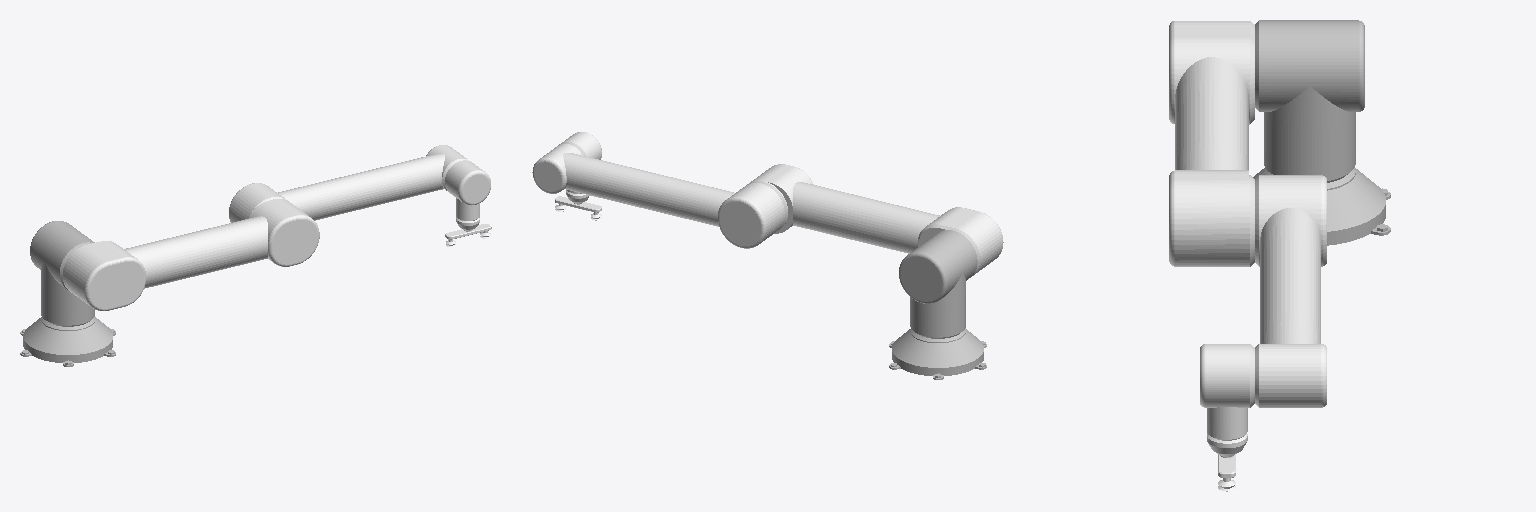
robot.urdf — chocolate_robot:
<?xml version='1.0' encoding='utf-8'?>
<robot name="chocolate_robot">
  <material name="Aluminum">
    <color rgba="0.961 0.961 0.965 1.0" />
  </material>
  <material name="Stainless_Steel_Brushed">
    <color rgba="0.796 0.796 0.796 1.0" />
  </material>
  <link name="base_link">
    <inertial>
      <origin xyz="-0.000000 -0.000000 0.009875" rpy="0 0 0" />
      <mass value="17.043868" />
      <inertia ixx="0.07965975" ixy="0.0" ixz="3.454097e-10" iyy="0.07965975" iyz="3.4608135e-10" izz="0.1374268" />
    </inertial>
    <visual>
      <origin xyz="0.000000 0.000000 0.000000" rpy="0.000000 0.000000 0.000000" />
      <geometry>
        <mesh filename="package://chocolate_robot_description/meshes/chocolate_robot/base_link.dae" scale="1 1 1" />
      </geometry>
      <material name="Stainless_Steel_Brushed" />
    </visual>
    <collision>
      <origin xyz="0.000000 0.000000 0.000000" rpy="0.000000 0.000000 0.000000" />
      <geometry>
        <mesh filename="package://chocolate_robot_description/meshes/chocolate_robot/base_link_collision.stl" scale="0.01 0.01 0.01" />
      </geometry>
    </collision>
  </link>
  <link name="link_1">
    <inertial>
      <origin xyz="-0.000000 0.000000 -0.150226" rpy="0 0 0" />
      <mass value="29.5941955" />
      <inertia ixx="0.26254975" ixy="5.775235e-07" ixz="1.779303e-07" iyy="0.2370806" iyz="1.177959e-07" izz="0.1339742" />
    </inertial>
    <visual>
      <origin xyz="0.000000 -0.000000 0.067260" rpy="3.141593 0.000000 0.000000" />
      <geometry>
        <mesh filename="package://chocolate_robot_description/meshes/chocolate_robot/link_1.dae" scale="1 1 1" />
      </geometry>
      <material name="Stainless_Steel_Brushed" />
    </visual>
    <collision>
      <origin xyz="0.000000 -0.000000 0.067260" rpy="3.141593 0.000000 0.000000" />
      <geometry>
        <mesh filename="package://chocolate_robot_description/meshes/chocolate_robot/link_1_collision.stl" scale="0.01 0.01 0.01" />
      </geometry>
    </collision>
  </link>
  <link name="link_2">
    <inertial>
      <origin xyz="0.252212 -0.211631 -0.079085" rpy="0 0 0" />
      <mass value="20.446867" />
      <inertia ixx="0.620589" ixy="0.6610605" ixz="0.00064043" iyy="0.853715" iyz="-0.0005378935" izz="1.4074205" />
    </inertial>
    <visual>
      <origin xyz="0.000000 0.184215 0.153998" rpy="0.698132 0.000000 0.000000" />
      <geometry>
        <mesh filename="package://chocolate_robot_description/meshes/chocolate_robot/link_2.dae" scale="1 1 1" />
      </geometry>
      <material name="Aluminum" />
    </visual>
    <collision>
      <origin xyz="0.000000 0.184215 0.153998" rpy="0.698132 0.000000 0.000000" />
      <geometry>
        <mesh filename="package://chocolate_robot_description/meshes/chocolate_robot/link_2_collision.stl" scale="0.01 0.01 0.01" />
      </geometry>
    </collision>
  </link>
  <link name="link_3">
    <inertial>
      <origin xyz="0.223812 0.187791 -0.066436" rpy="0 0 0" />
      <mass value="13.116837" />
      <inertia ixx="0.36475095" ixy="-0.4006213" ixz="-0.00024209295" iyy="0.50605" iyz="-0.0001910737" izz="0.8424325" />
    </inertial>
    <visual>
      <origin xyz="-0.515241 -1.835000 -0.035287" rpy="-0.872665 0.000000 0.000000" />
      <geometry>
        <mesh filename="package://chocolate_robot_description/meshes/chocolate_robot/link_3.dae" scale="1 1 1" />
      </geometry>
      <material name="Aluminum" />
    </visual>
    <collision>
      <origin xyz="-0.515241 -1.835000 -0.035287" rpy="-0.872665 0.000000 0.000000" />
      <geometry>
        <mesh filename="package://chocolate_robot_description/meshes/chocolate_robot/link_3_collision.stl" scale="0.01 0.01 0.01" />
      </geometry>
    </collision>
  </link>
  <link name="link_4">
    <inertial>
      <origin xyz="0.000000 0.016912 -0.050573" rpy="0 0 0" />
      <mass value="1.813726" />
      <inertia ixx="0.0047774425" ixy="-5.325455e-09" ixz="1.316545e-09" iyy="0.0026916525" iyz="-4.9222055e-07" izz="0.0048298815" />
    </inertial>
    <visual>
      <origin xyz="-1.030483 1.292661 0.608001" rpy="1.570796 0.000000 0.000000" />
      <geometry>
        <mesh filename="package://chocolate_robot_description/meshes/chocolate_robot/link_4.dae" scale="1 1 1" />
      </geometry>
      <material name="Aluminum" />
    </visual>
    <collision>
      <origin xyz="-1.030483 1.292661 0.608001" rpy="1.570796 0.000000 0.000000" />
      <geometry>
        <mesh filename="package://chocolate_robot_description/meshes/chocolate_robot/link_4_collision.stl" scale="0.01 0.01 0.01" />
      </geometry>
    </collision>
  </link>
  <link name="link_5_suctioncup">
    <inertial>
      <origin xyz="-0.000082 0.000211 0.030292" rpy="0 0 0" />
      <mass value="0.280359" />
      <inertia ixx="0.0001828445" ixy="9.06885e-09" ixz="7.16737e-07" iyy="0.0004074582" iyz="-1.4604825e-06" izz="0.0003454383" />
    </inertial>
    <visual>
      <origin xyz="-1.030483 -0.658558 1.176504" rpy="3.141593 0.000000 0.000000" />
      <geometry>
        <mesh filename="package://chocolate_robot_description/meshes/chocolate_robot/link_5_suctioncup.dae" scale="1 1 1" />
      </geometry>
      <material name="Aluminum" />
    </visual>
    <collision>
      <origin xyz="-1.030483 -0.658558 1.176504" rpy="3.141593 0.000000 0.000000" />
      <geometry>
        <mesh filename="package://chocolate_robot_description/meshes/chocolate_robot/link_5_suctioncup_collision.stl" scale="0.01 0.01 0.01" />
      </geometry>
    </collision>
  </link>
  <joint name="joint_1" type="revolute">
    <parent link="base_link" />
    <child link="link_1" />
    <origin xyz="-0.000000 -0.000000 0.067260" rpy="-3.141593 0.000000 0.000000" />
    <axis xyz="0.000000 0.000000 1.000000" />
    <limit effort="100" velocity="100" lower="-3.141593" upper="3.141593"/>
  </joint>
  <joint name="joint_2" type="revolute">
    <parent link="link_1" />
    <child link="link_2" />
    <origin xyz="0.000000 0.101002 -0.204715" rpy="1.570796 -0.698132 0.000000" />
    <axis xyz="0.000000 0.000000 -1.000000" />
    <limit effort="100" velocity="100" lower="-3.141593" upper="3.141593"/>
  </joint>
  <joint name="joint_3" type="revolute">
    <parent link="link_2" />
    <child link="link_3" />
    <origin xyz="0.515241 -0.432339 -0.000308" rpy="-3.141593 0.000000 0.000000" />
    <axis xyz="0.000000 0.000000 1.000000" />
    <limit effort="100" velocity="100" lower="-3.141593" upper="3.141593"/>
  </joint>
  <joint name="joint_4" type="revolute">
    <parent link="link_3" />
    <child link="link_4" />
    <origin xyz="0.515241 0.432339 0.000012" rpy="-3.141593 0.000000 0.698132" />
    <axis xyz="0.000000 0.000000 -1.000000" />
    <limit effort="100" velocity="100" lower="-3.141593" upper="3.141593"/>
  </joint>
  <joint name="joint_5" type="revolute">
    <parent link="link_4" />
    <child link="link_5_suctioncup" />
    <origin xyz="0.000000 0.116157 -0.050557" rpy="-1.570796 0.000000 0.000000" />
    <axis xyz="0.000000 0.000000 1.000000" />
    <limit effort="100" velocity="100" lower="-3.141593" upper="3.141593"/>
  </joint>
  <ros2_control name="GazeboSimSystem" type="system">
    <hardware>
      <plugin>gz_ros2_control/GazeboSimSystem</plugin>
    </hardware>
    <joint name="joint_1">
      <command_interface name="position" />
      <state_interface name="position">
        <param name="initial_value">-0.7853981633974483</param>
      </state_interface>
      <state_interface name="velocity" />
      <state_interface name="effort" />
    </joint>
    <joint name="joint_2">
      <command_interface name="position" />
      <state_interface name="position">
        <param name="initial_value">0.698132</param>
      </state_interface>
      <state_interface name="velocity" />
      <state_interface name="effort" />
    </joint>
    <joint name="joint_3">
      <command_interface name="position" />
      <state_interface name="position">
        <param name="initial_value">-1.2217304763960306</param>
      </state_interface>
      <state_interface name="velocity" />
      <state_interface name="effort" />
    </joint>
    <joint name="joint_4">
      <command_interface name="position" />
      <state_interface name="position">
        <param name="initial_value">-0.523599</param>
      </state_interface>
      <state_interface name="velocity" />
      <state_interface name="effort" />
    </joint>
    <joint name="joint_5">
      <command_interface name="position" />
      <state_interface name="position">
        <param name="initial_value">0.0</param>
      </state_interface>
      <state_interface name="velocity" />
      <state_interface name="effort" />
    </joint>
  </ros2_control>
  <link name="world" />
  <joint name="world_to_base" type="fixed">
    <parent link="world" />
    <child link="base_link" />
    <origin xyz="0 0 0" rpy="0 0 0" />
  </joint>
  <gazebo>
    <plugin filename="gz_ros2_control-system" name="gz_ros2_control::GazeboSimROS2ControlPlugin">
      <parameters>__CONTROLLER_CONFIG_PATH__</parameters>
    </plugin>
  </gazebo>
</robot>

--- Render facts (derived) ---
3 views of the same robot in one strip: view 1: azimuth 30°, elevation 25°; view 2: azimuth 150°, elevation 25°; view 3: azimuth 270°, elevation 25° (orthographic).
Model chocolate_robot with 7 links and 6 joints (5 revolute, 1 fixed), rooted at world, posed all joints at 0.
Links seen in each view (by area): view 1: link_2, link_3, link_1, base_link, link_4, link_5_suctioncup; view 2: link_3, link_2, link_1, base_link, link_4, link_5_suctioncup; view 3: link_2, link_1, link_3, link_4, base_link, link_5_suctioncup.
Link boxes in pixels (x1=…): link_2: x1=63, y1=199, x2=319, y2=310; link_3: x1=229, y1=145, x2=470, y2=222; link_1: x1=30, y1=221, x2=94, y2=326; base_link: x1=20, y1=317, x2=115, y2=366; link_4: x1=445, y1=160, x2=490, y2=220; link_5_suctioncup: x1=445, y1=217, x2=491, y2=246; link_3: x1=532, y1=144, x2=784, y2=248; link_2: x1=747, y1=164, x2=1003, y2=275; link_1: x1=899, y1=230, x2=977, y2=338; base_link: x1=889, y1=328, x2=986, y2=379; link_4: x1=559, y1=132, x2=601, y2=193; link_5_suctioncup: x1=555, y1=190, x2=601, y2=220; link_2: x1=1169, y1=21, x2=1254, y2=266; link_1: x1=1255, y1=20, x2=1364, y2=182; link_3: x1=1255, y1=175, x2=1326, y2=407; link_4: x1=1200, y1=344, x2=1254, y2=440; base_link: x1=1253, y1=168, x2=1390, y2=245; link_5_suctioncup: x1=1207, y1=433, x2=1247, y2=491.
Bounding box of the posed robot: 1.59 × 0.4069 × 0.3841 m (x, y, z).
6 mesh visuals loaded from 6 distinct referenced files (6 Collada DAE).
